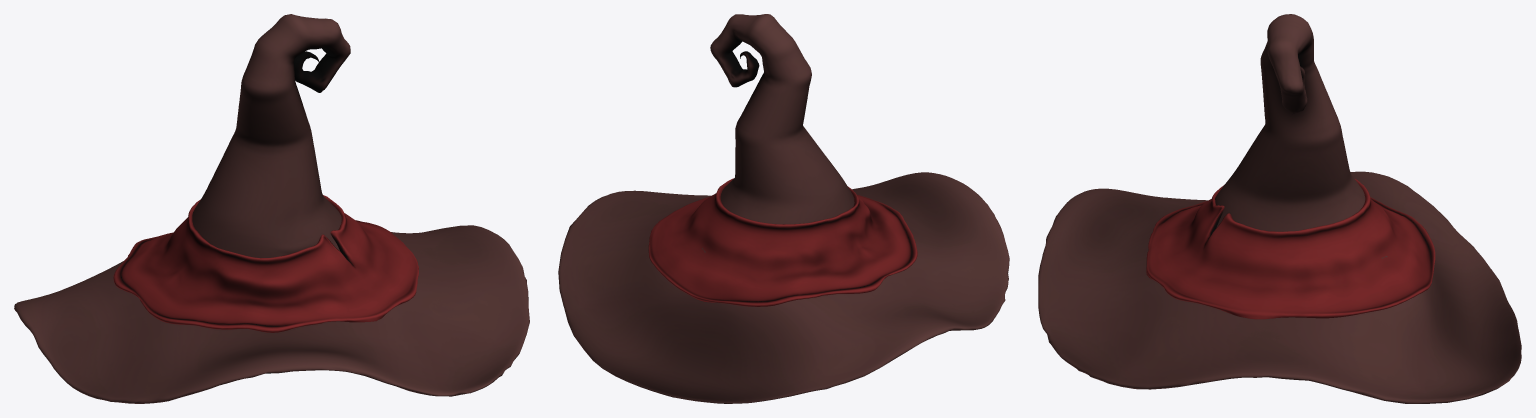
Rendered from Wizard_idle.fbx.
3 renders of one model, left to right at view 1: azimuth 30°, elevation 25°; view 2: azimuth 150°, elevation 25°; view 3: azimuth 270°, elevation 25°, orthographic. The views are drawn at different scales.
Visible parts, largest first — view 1: Wizard_low; view 2: Wizard_low; view 3: Wizard_low.
Boxes of the visible parts, x1,y1,x2,y2 form: Wizard_low: (14,14,529,403); Wizard_low: (558,14,1009,403); Wizard_low: (1038,14,1521,403).
Bounding box in the file's own units: 659 × 492 × 629.
